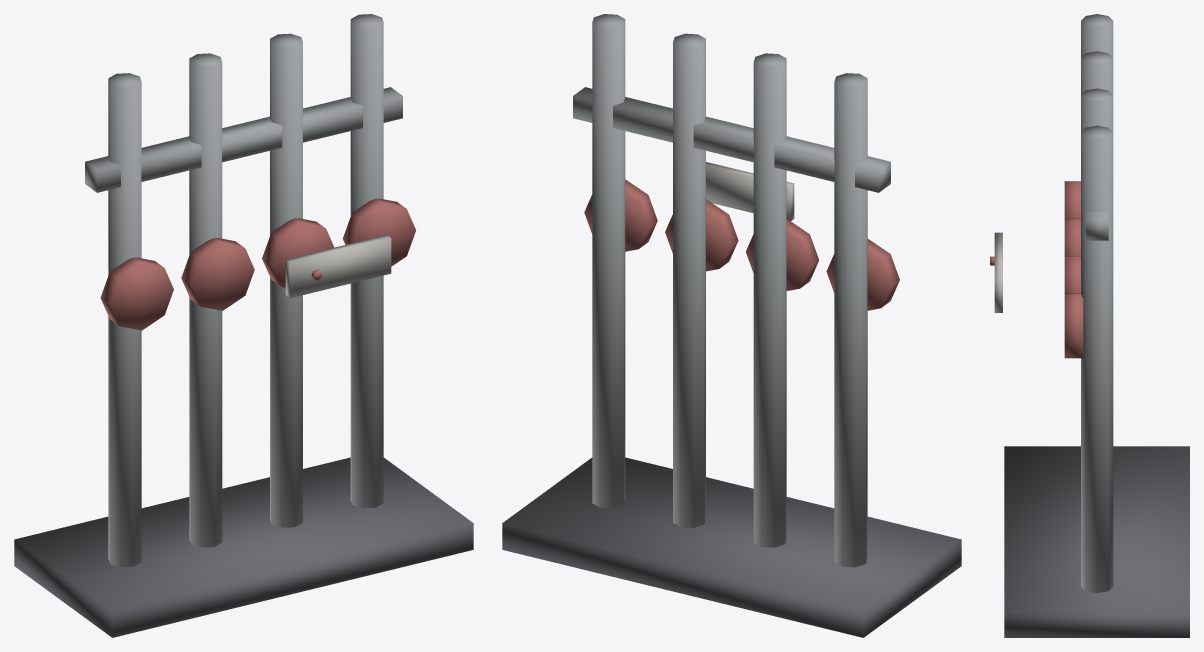
Rendered from radiator_manifold.glb.
The picture shows the model from 3 angles, left to right: view 1: azimuth 30°, elevation 25°; view 2: azimuth 150°, elevation 25°; view 3: azimuth 270°, elevation 25°; orthographic projection. The views are drawn at different scales.
Parts seen in each view (by area): view 1: world; view 2: world; view 3: world.
Boxes of the visible parts, bbox=[...] form: world: bbox=[14, 14, 473, 637]; world: bbox=[502, 14, 961, 637]; world: bbox=[990, 14, 1189, 637].
Bounding box in the file's own units: 0.85 × 1.14 × 0.431.
